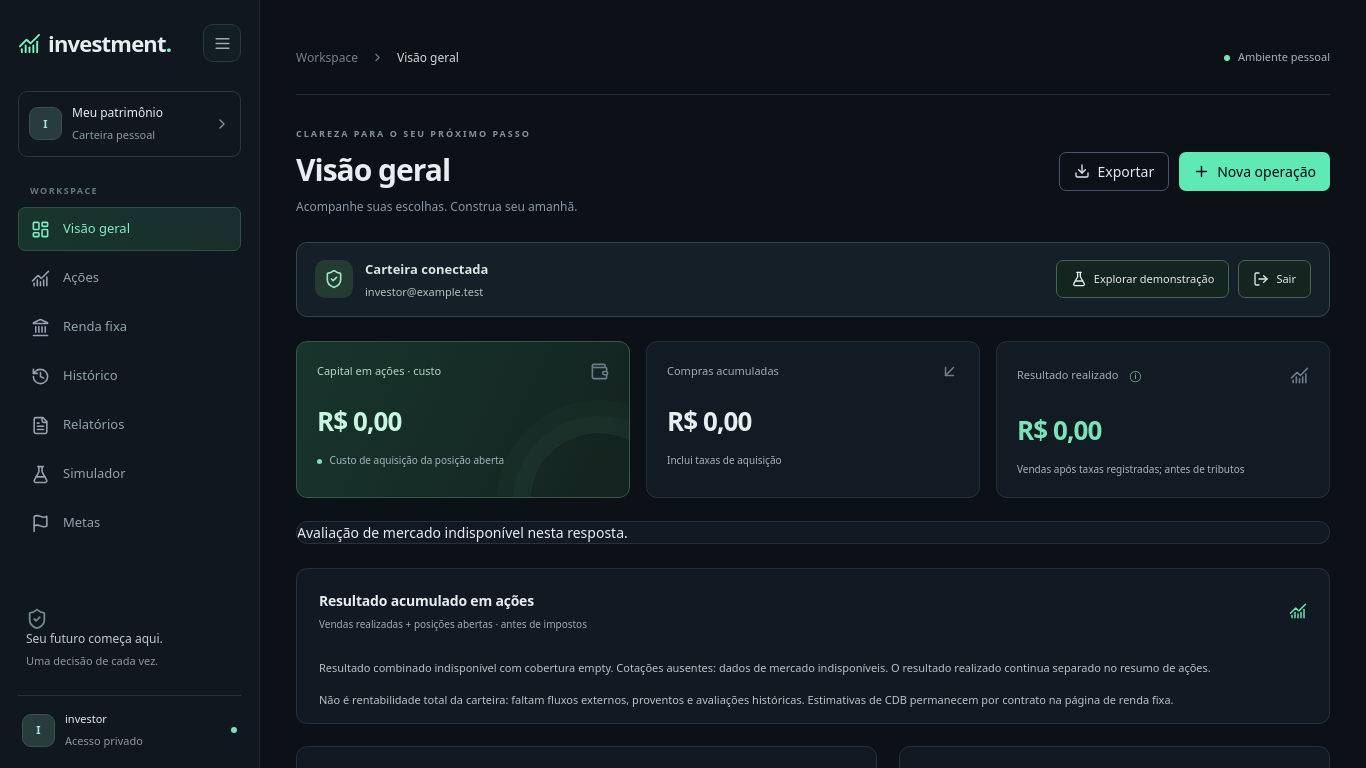
Scenario: retorno à aba com SIGNED_IN repetido preserva tela, cache, modal e rota
Click the link to "/historico".
click(74, 376)  # box [31,366,118,386]
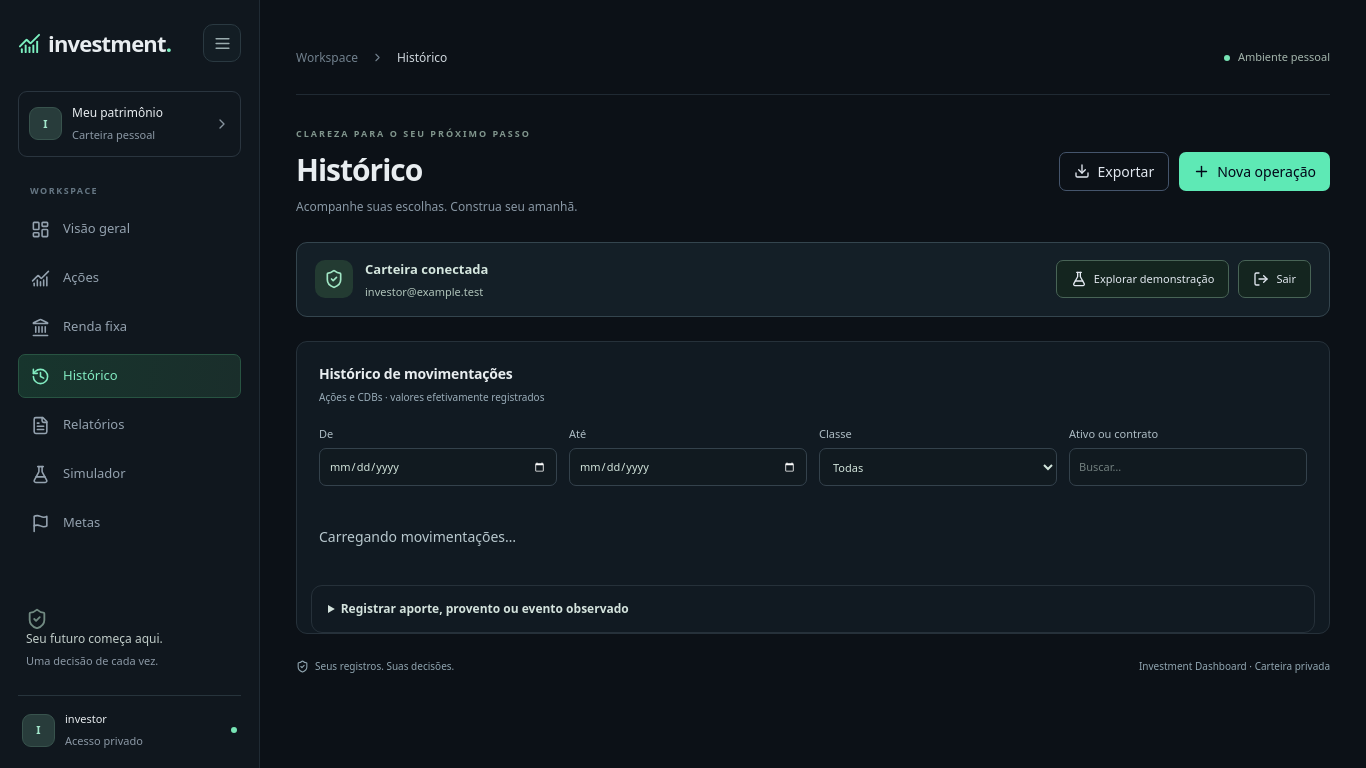
Click the button "Nova operação".
click(1255, 171)  # box [1179,152,1330,190]
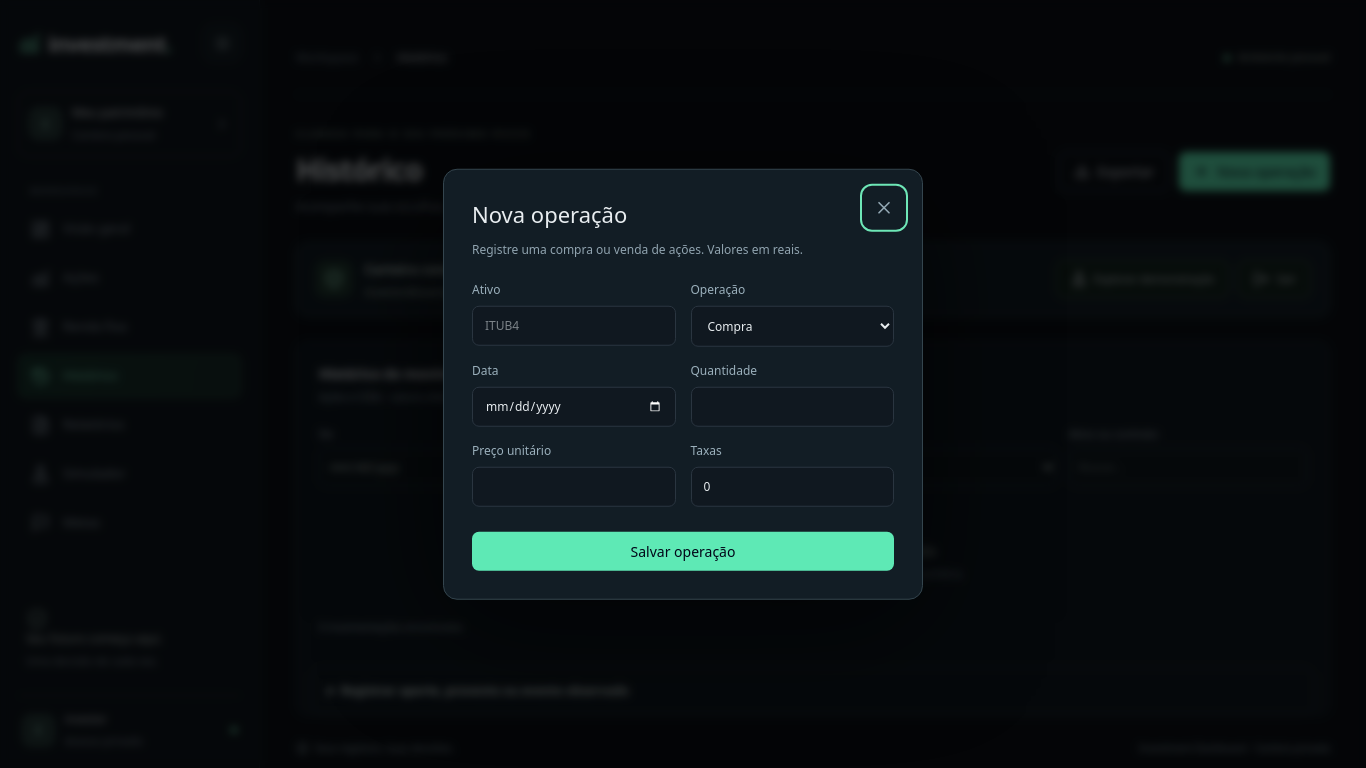
Check: the element with class "sidebar" is shown, box [0,0,260,767]
Check: the dialog is shown, box [443,169,923,599]
